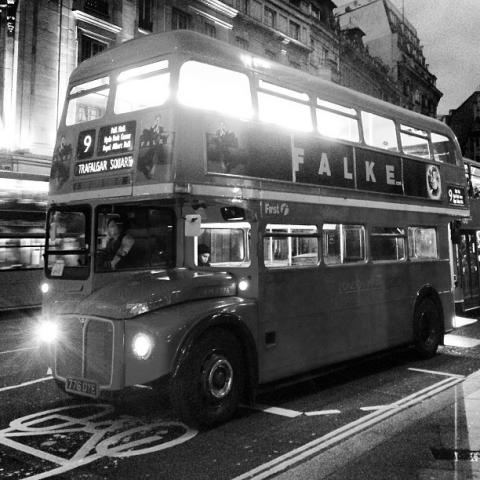bus: (42, 27, 473, 426), (1, 149, 54, 314)
